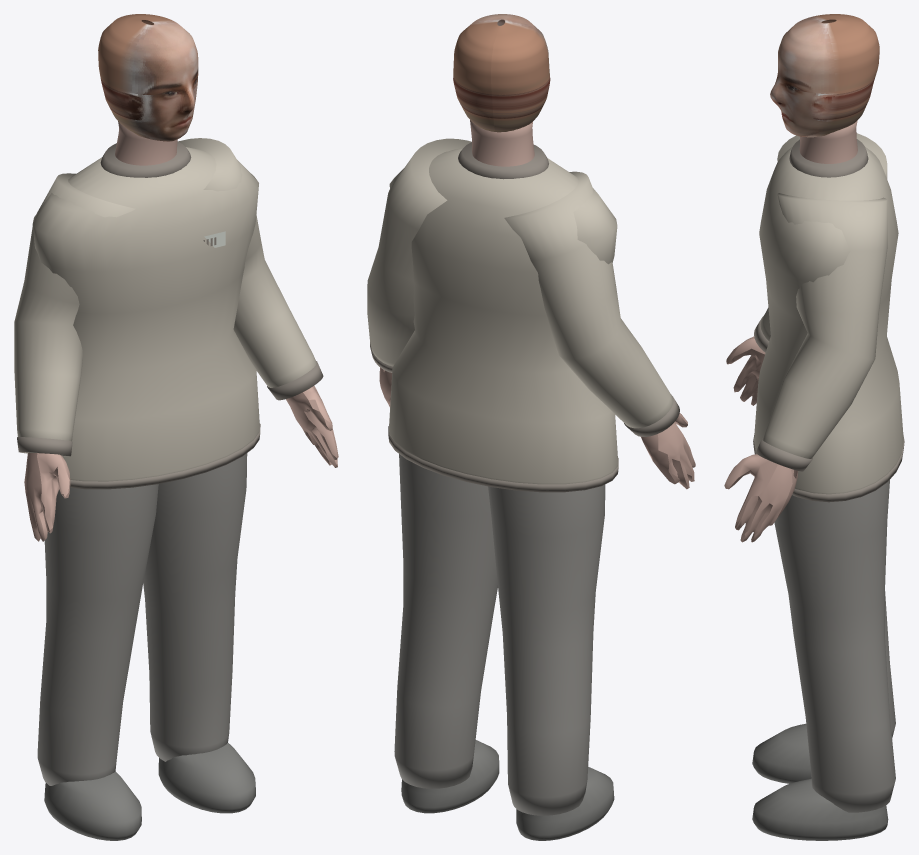
Rendered from WardSubject02.fbx.
The picture shows the model from 3 angles, left to right: view 1: azimuth 30°, elevation 25°; view 2: azimuth 150°, elevation 25°; view 3: azimuth 270°, elevation 25°; orthographic projection.
Visible parts, largest first — view 1: Body, Head; view 2: Body, Head; view 3: Body, Head.
Boxes of the visible parts, x1,y1,x2,y2 form: Body: (14, 121, 338, 840); Head: (98, 14, 198, 141); Body: (367, 120, 695, 840); Head: (453, 14, 550, 132); Body: (724, 120, 904, 840); Head: (770, 14, 879, 137).
Size of the model in its own units: 0.7243 by 1.8 by 0.3769.
